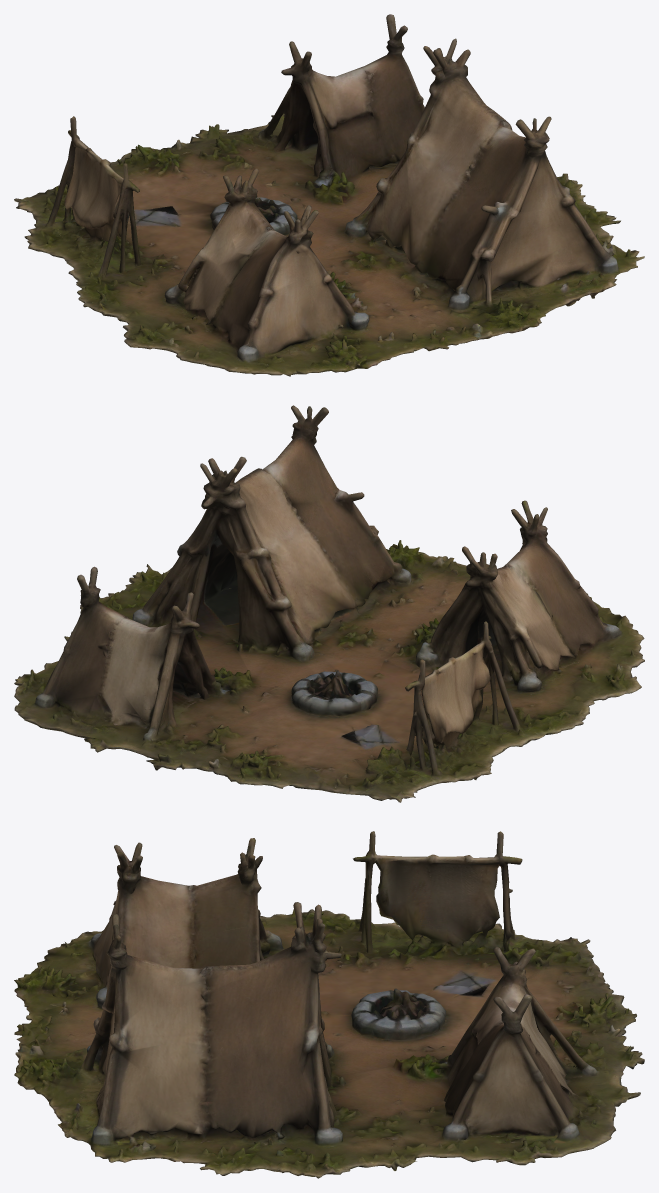
The model's file is Camp (Western) Base Model.fbx.
3 views of the same model, one above another, from view 1: azimuth 30°, elevation 25°; view 2: azimuth 150°, elevation 25°; view 3: azimuth 270°, elevation 25° (orthographic). The views are drawn at different scales.
Visible parts, largest first — view 1: Mesh_0; view 2: Mesh_0; view 3: Mesh_0.
Boxes of the visible parts, bbox=[...] form: Mesh_0: bbox=[14, 14, 644, 376]; Mesh_0: bbox=[14, 405, 644, 802]; Mesh_0: bbox=[14, 831, 644, 1178].
Bounding box in the file's own units: 200 × 71.76 × 197.
Materials: 1 (1 with a texture image).
